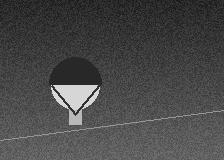helmet: (49, 57, 101, 114)
